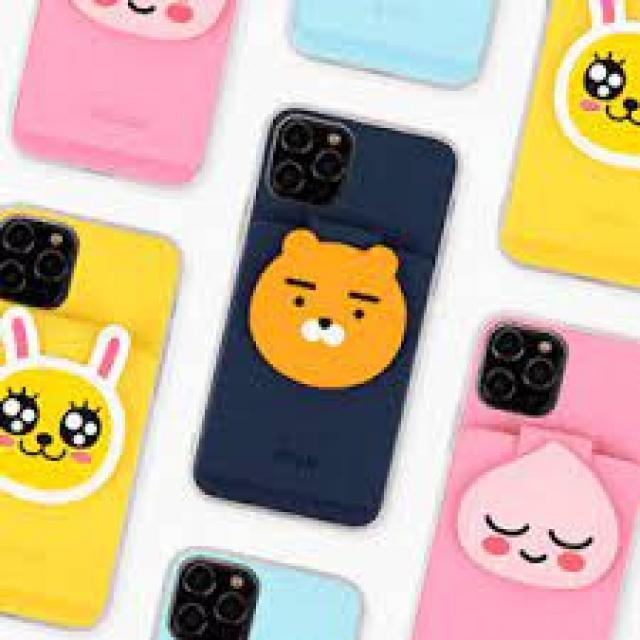phone: (189, 102, 459, 528)
